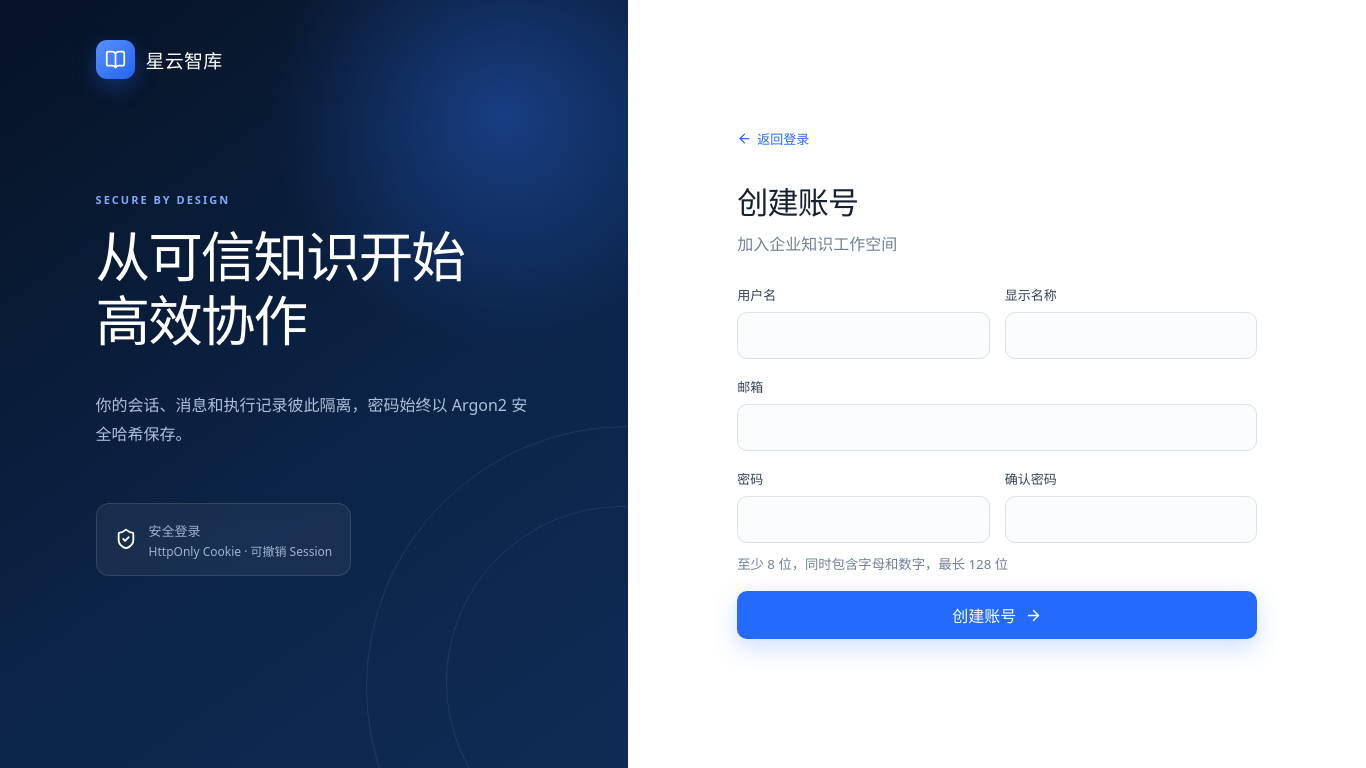
Test: web application › validates registration password confirmation
Check: the heading "创建账号" is shown, box [737,181,858,223]
Type "tester" into the field labelled "用户名" at x=863, y=336, box [737,312,990,359]
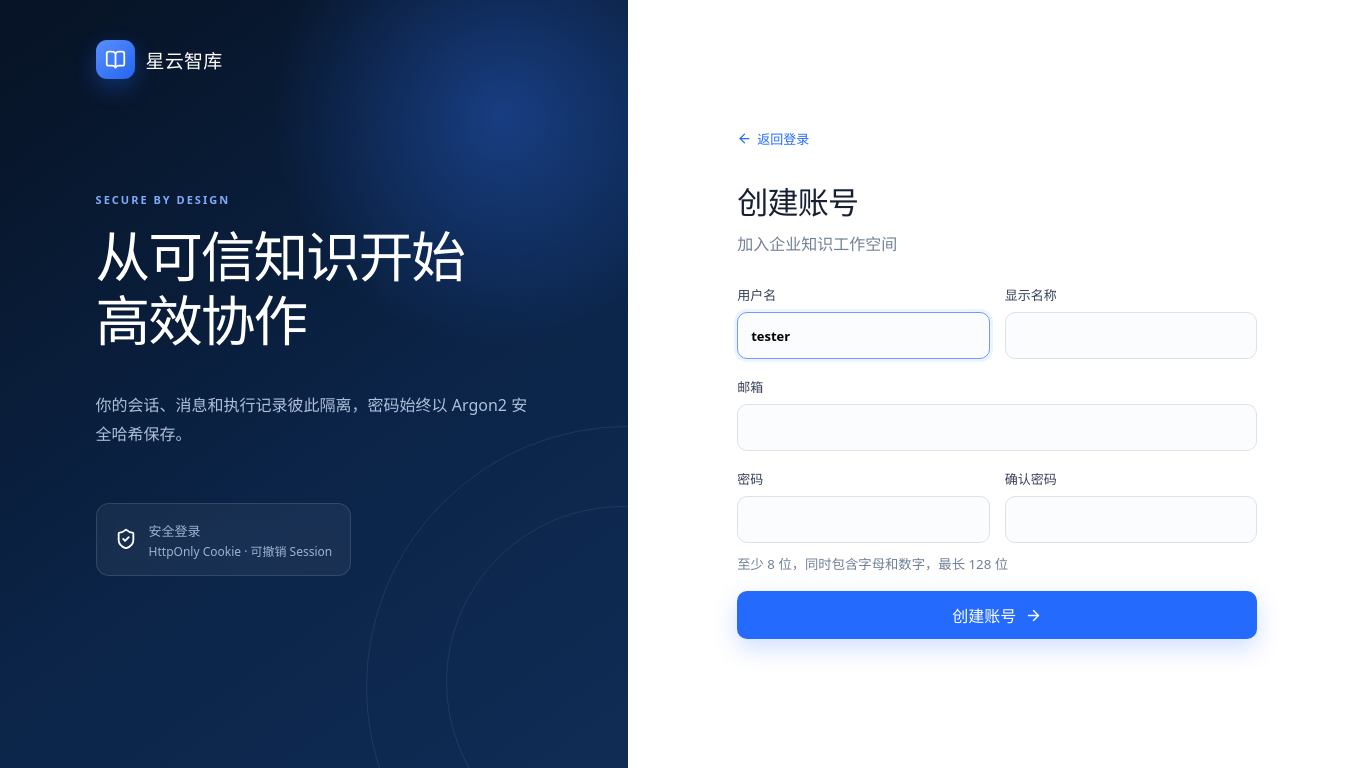
Type "测试用户" into the field labelled "显示名称" at x=1131, y=336, box [1005,312,1257,359]
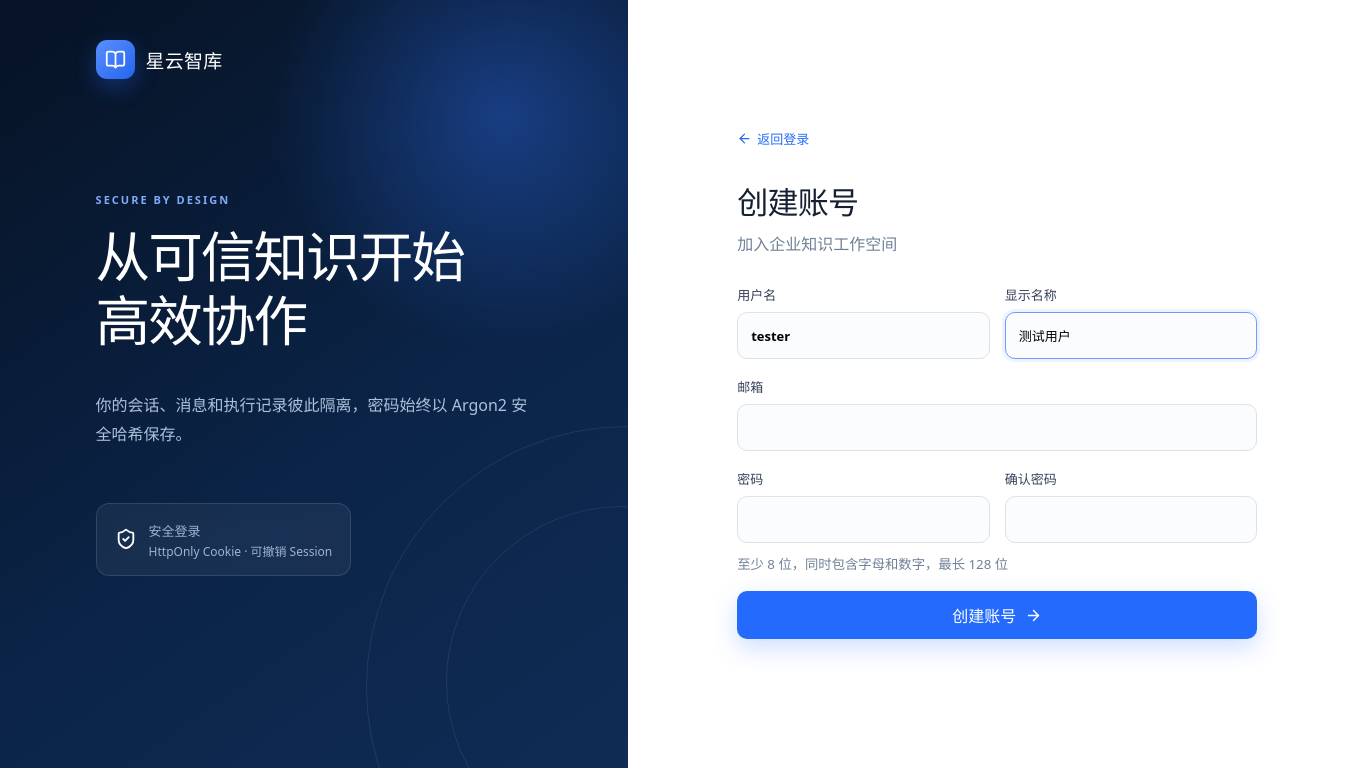
Type "tester@example.test" into the field labelled "邮箱" at x=997, y=428, box [737,404,1257,451]
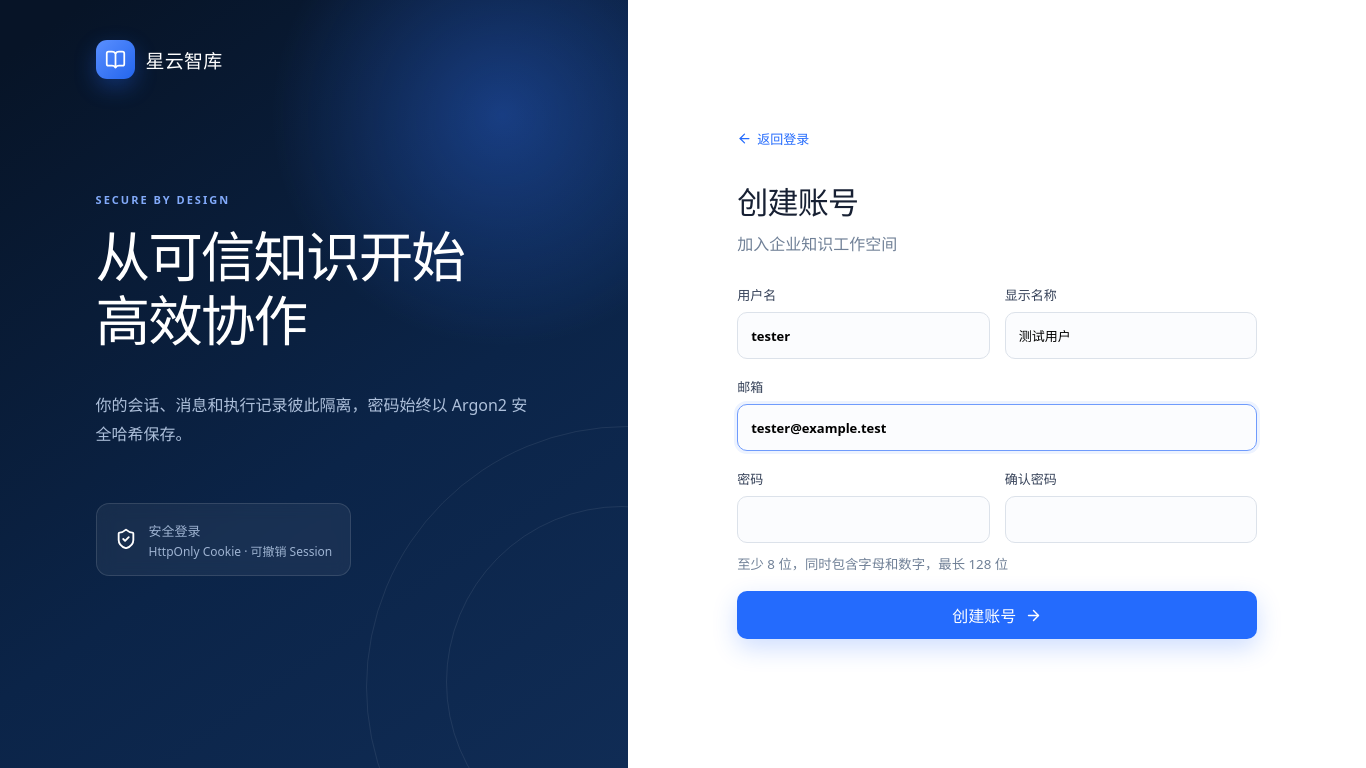
Type "Example123" into the password field labelled "密码" at x=863, y=520, box [737,496,990,543]
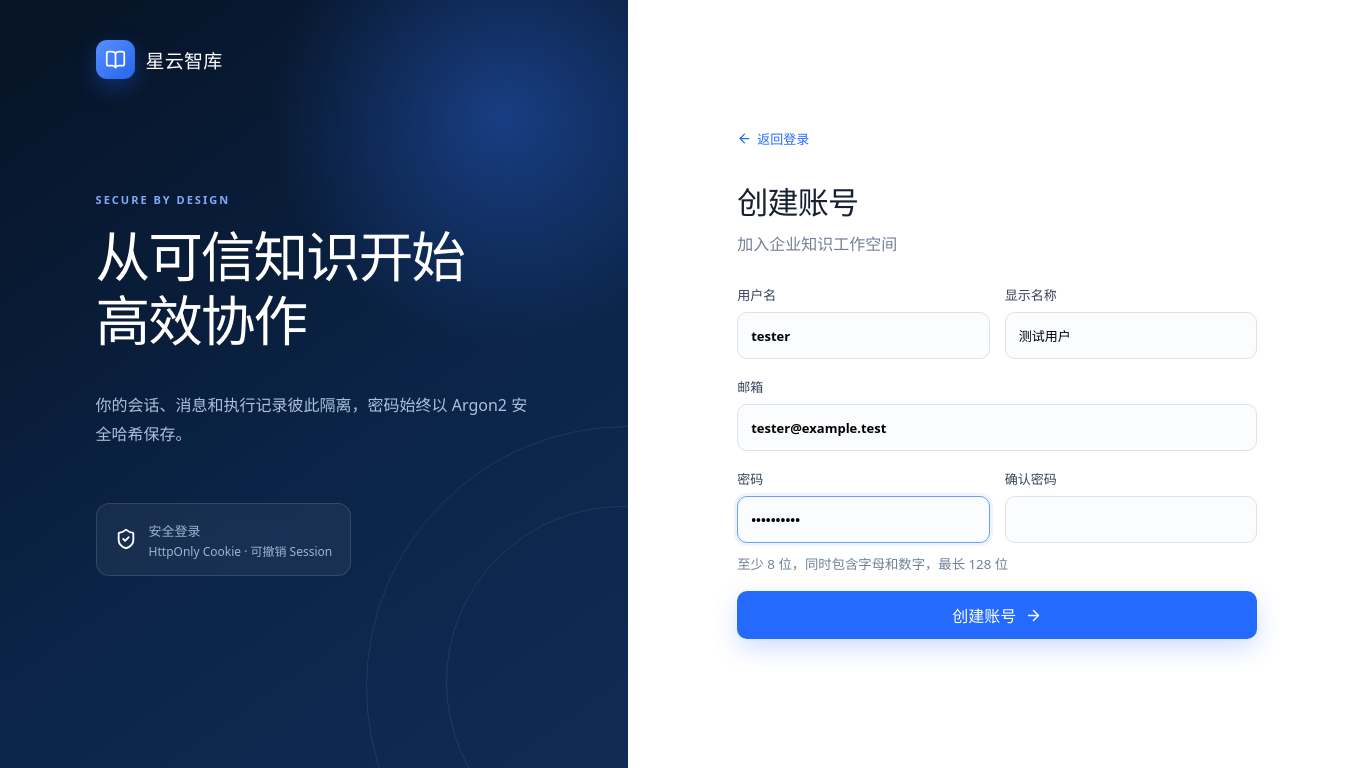
Type "Example124" into the password field labelled "确认密码" at x=1131, y=520, box [1005,496,1257,543]
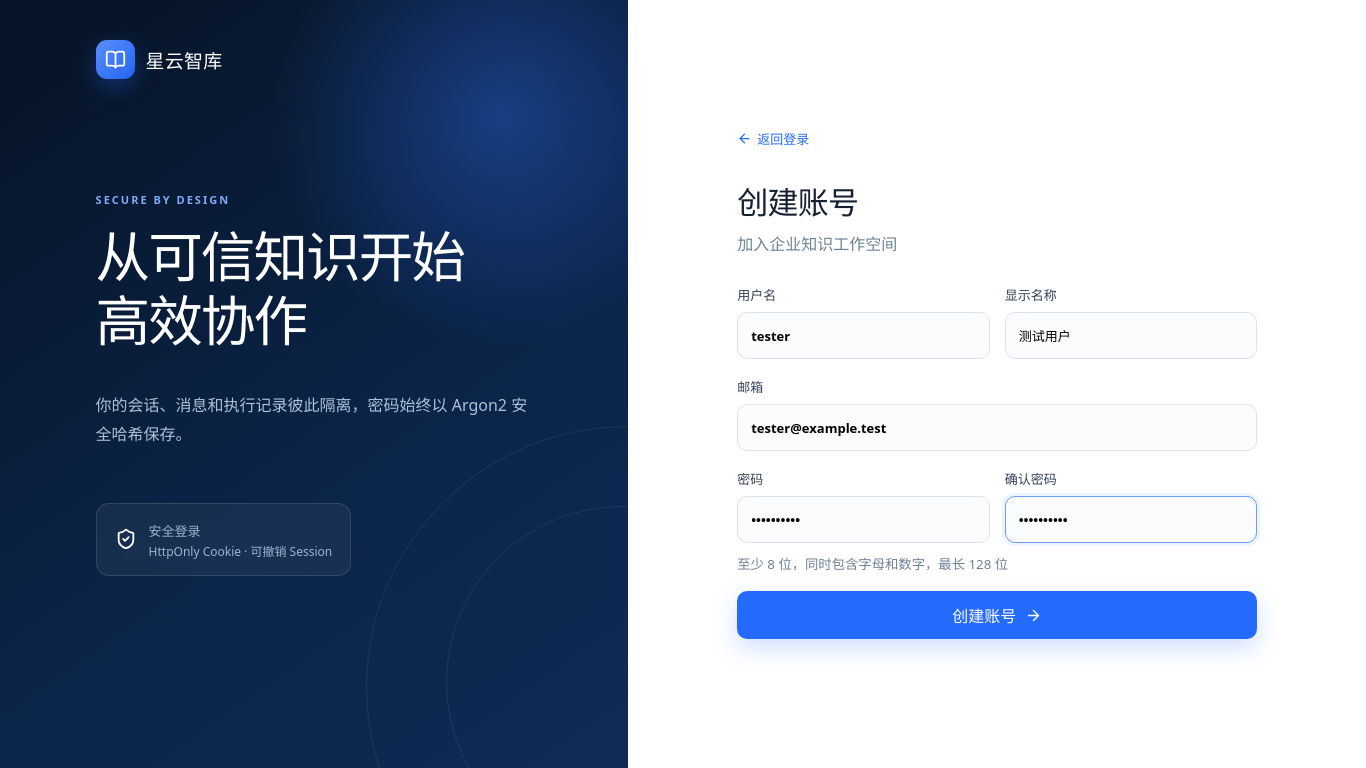
Click the button "创建账号" at x=997, y=615, box [737,591,1257,639]
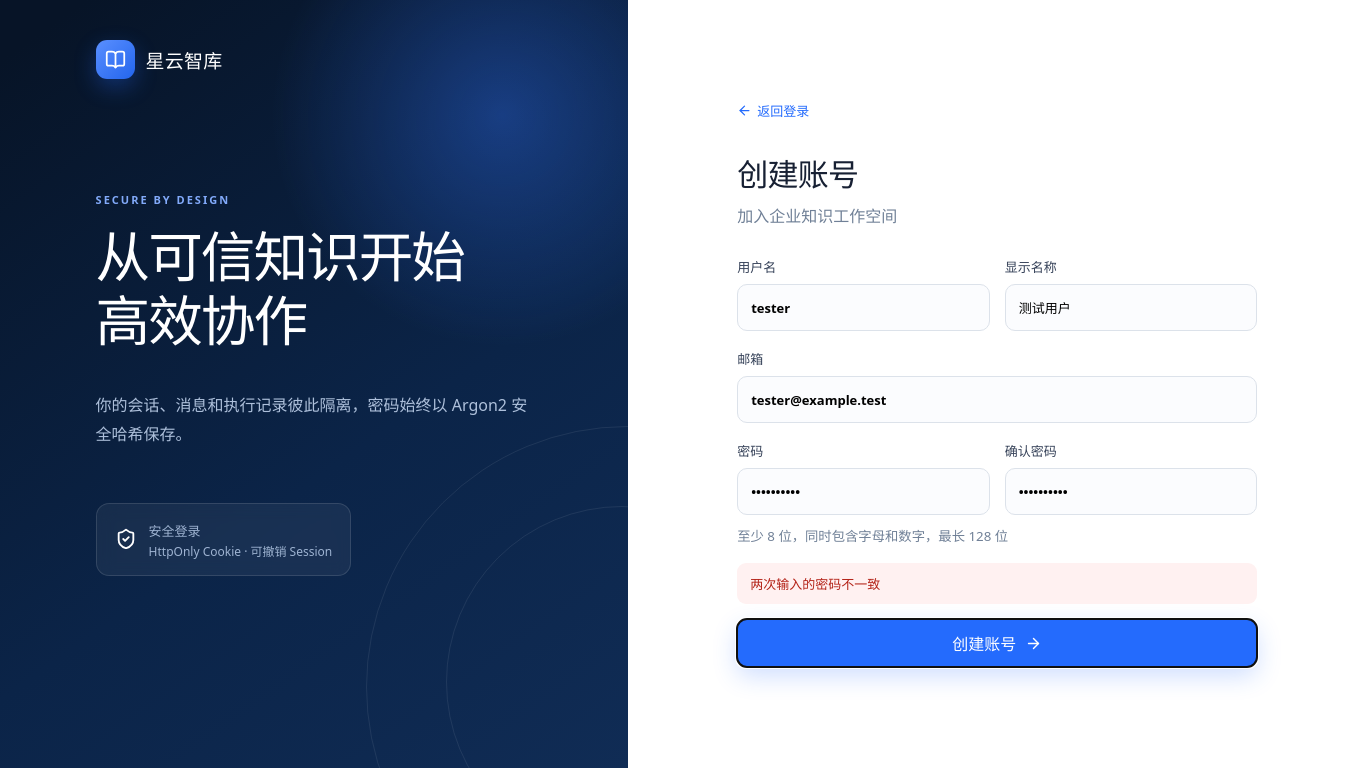
Check: the message reads "两次输入的密码不一致", box [750,575,880,593]
